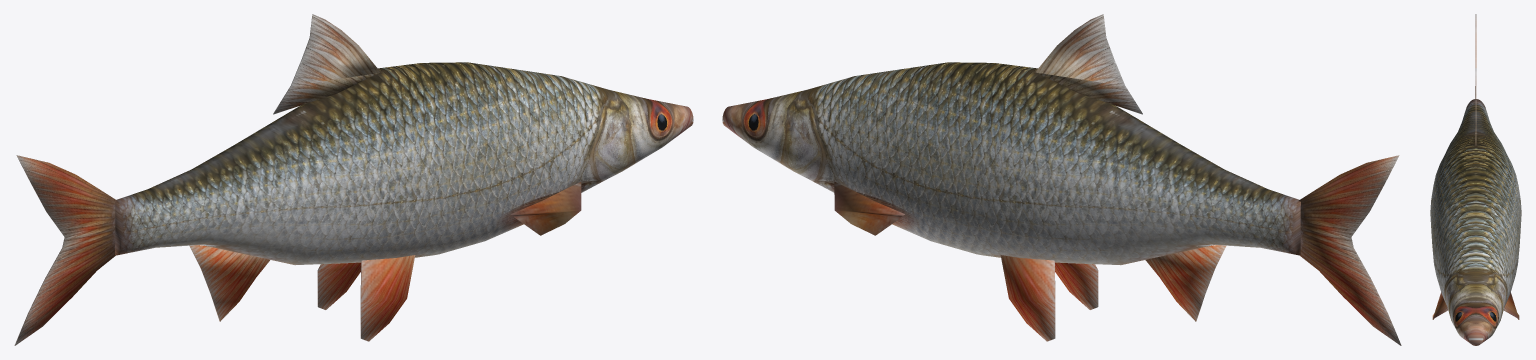
The model's file is roach.glb.
3 renders of one model, left to right at view 1: azimuth 30°, elevation 25°; view 2: azimuth 150°, elevation 25°; view 3: azimuth 270°, elevation 25°, orthographic. The views are drawn at different scales.
Parts seen in each view (by area): view 1: roach_realistic; view 2: roach_realistic; view 3: roach_realistic.
Boxes of the visible parts, x1,y1,x2,y2 form: roach_realistic: (14,14,693,345); roach_realistic: (722,14,1401,345); roach_realistic: (1430,14,1521,345).
Size of the model in its own units: 0.9786 by 0.4439 by 0.16.
Materials: 1 (1 with a texture image).
